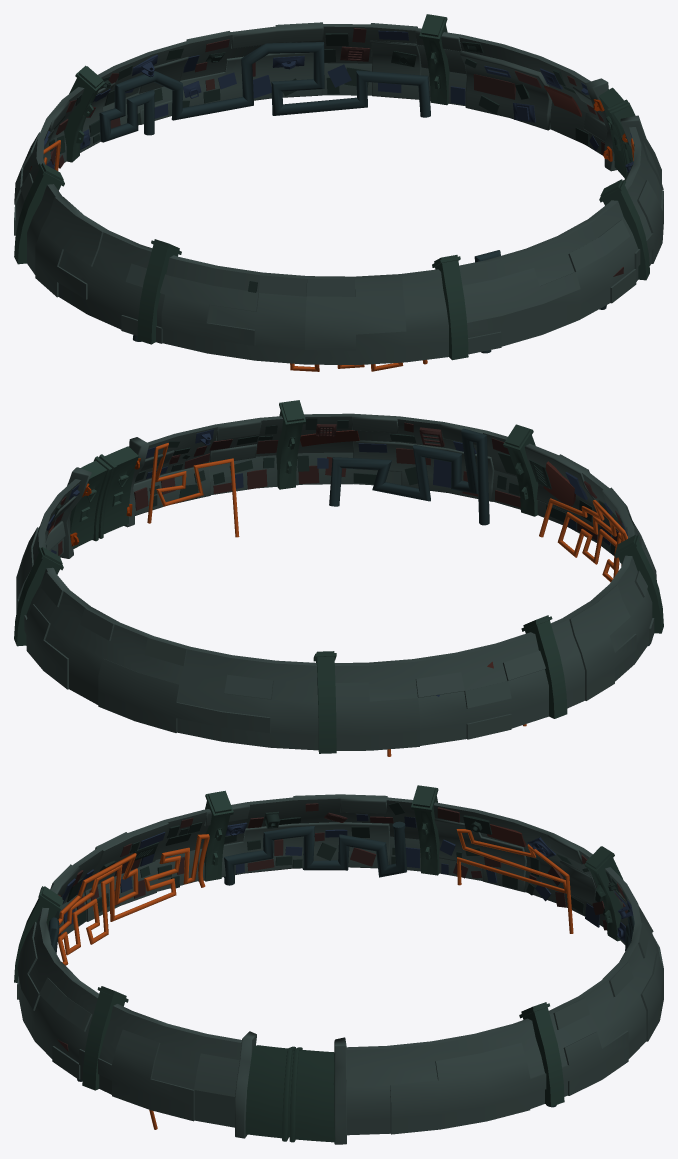
Rendered from OuterWall.fbx.
The picture shows the model from 3 angles, top to bottom: view 1: azimuth 30°, elevation 25°; view 2: azimuth 150°, elevation 25°; view 3: azimuth 270°, elevation 25°; orthographic projection.
Parts seen in each view (by area): view 1: Tube002, Line003, Box039, Box038, Box037, Box040, Box042, Box032, Box041, Box229; view 2: Tube002, Line004, Box032, Line005, Box042, Box040, Box041, Box039, Line006, Box037, Box038, Box045 (+1 smaller); view 3: Tube002, Box032, Line005, Line002, Box037, Line007, Box041, Box042, Box038, Box040, Box039.
Boxes of the visible parts, left/top/right/bottom form: Tube002: left=14, top=22, right=663, bottom=365; Line003: left=99, top=42, right=430, bottom=142; Box039: left=432, top=255, right=468, bottom=360; Box038: left=137, top=239, right=181, bottom=344; Box037: left=419, top=14, right=449, bottom=105; Box040: left=64, top=65, right=104, bottom=162; Box042: left=14, top=163, right=64, bottom=264; Box032: left=599, top=87, right=635, bottom=180; Box041: left=599, top=179, right=649, bottom=280; Box229: left=473, top=74, right=515, bottom=99; Tube002: left=16, top=413, right=656, bottom=750; Line004: left=329, top=428, right=489, bottom=525; Box032: left=67, top=446, right=138, bottom=548; Line005: left=539, top=498, right=627, bottom=582; Box042: left=521, top=615, right=567, bottom=718; Box040: left=313, top=651, right=336, bottom=753; Box041: left=276, top=400, right=305, bottom=489; Box039: left=503, top=424, right=538, bottom=516; Line006: left=147, top=443, right=239, bottom=537; Box037: left=14, top=547, right=63, bottom=646; Box038: left=614, top=534, right=663, bottom=633; Box045: left=543, top=461, right=575, bottom=505; Tube002: left=17, top=794, right=663, bottom=1144; Box032: left=245, top=1045, right=335, bottom=1142; Line005: left=58, top=834, right=209, bottom=965; Line002: left=224, top=821, right=406, bottom=885; Box037: left=519, top=1002, right=564, bottom=1106; Line007: left=456, top=829, right=573, bottom=933; Box041: left=82, top=986, right=128, bottom=1090; Box042: left=411, top=785, right=439, bottom=875; Box038: left=204, top=790, right=233, bottom=881; Box040: left=584, top=846, right=623, bottom=941; Box039: left=14, top=886, right=63, bottom=982.
Size of the model in its own units: 2797 by 596 by 2776.
